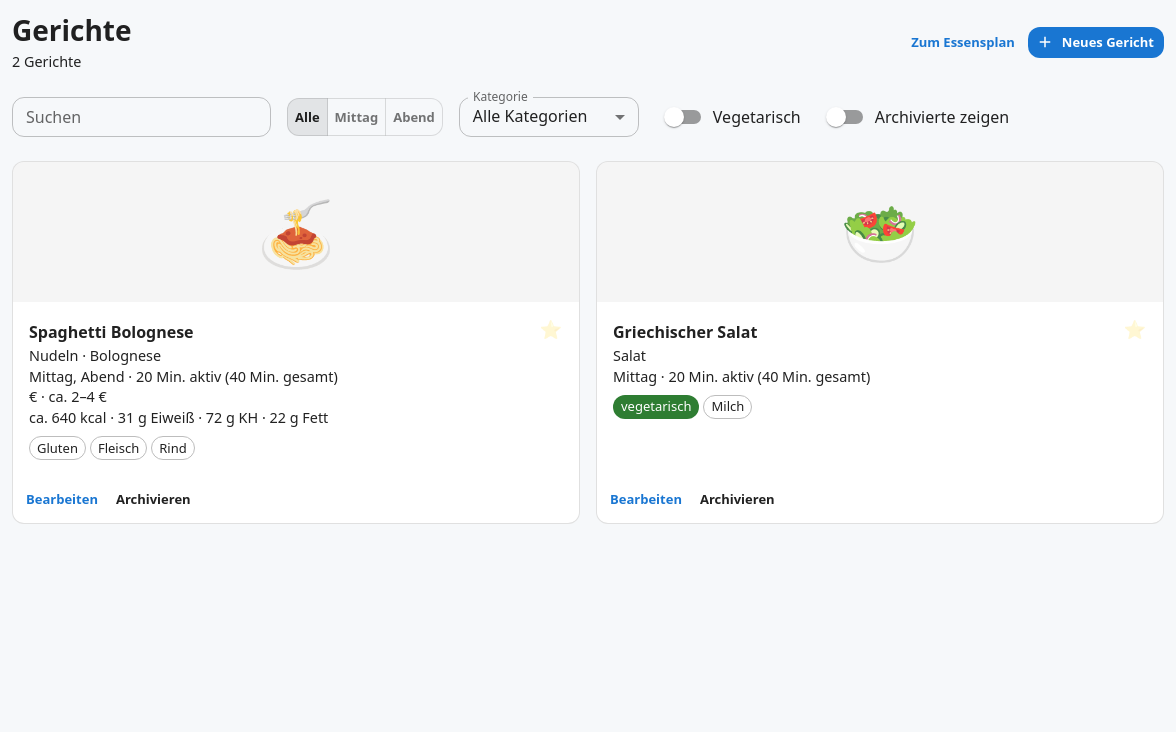
it: DishesPage (FOOD-010) › archives with undo and restores from the archive
Step 1. Click the button with aria-label "Spaghetti Bolognese archivieren" → click(153, 500), box [111,484,196,515]
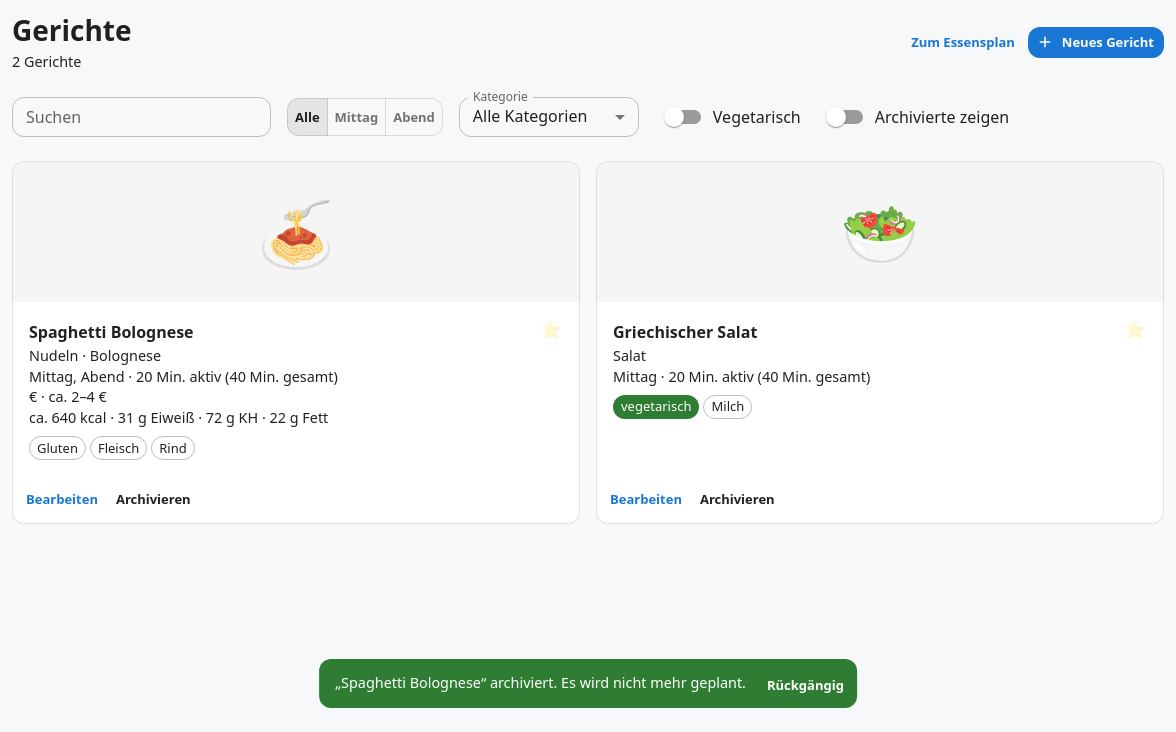
Result: the text "„Spaghetti Bolognese“ archiviert. Es wird nicht mehr geplant." is shown at [335,673,746,692]
Step 2. Click the button "Rückgängig" → click(805, 686), box [762,670,849,701]
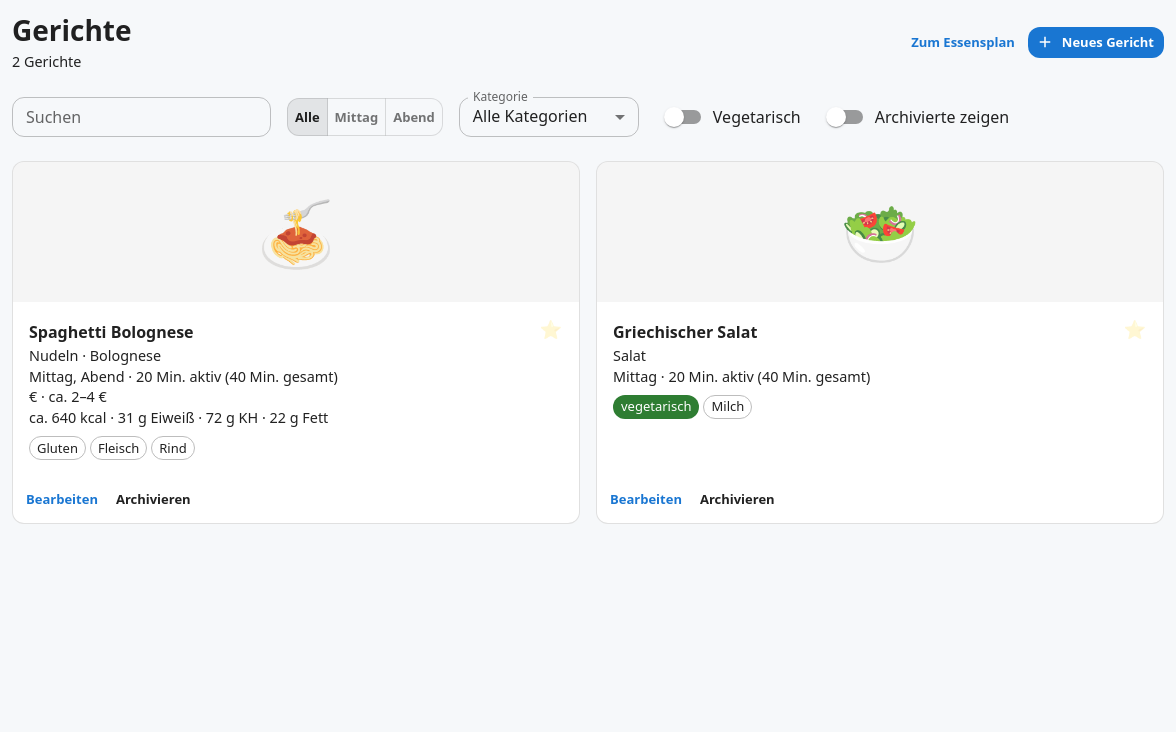
Step 3. Click the switch labelled "Archivierte zeigen" → click(917, 117), box [826,106,1009,128]
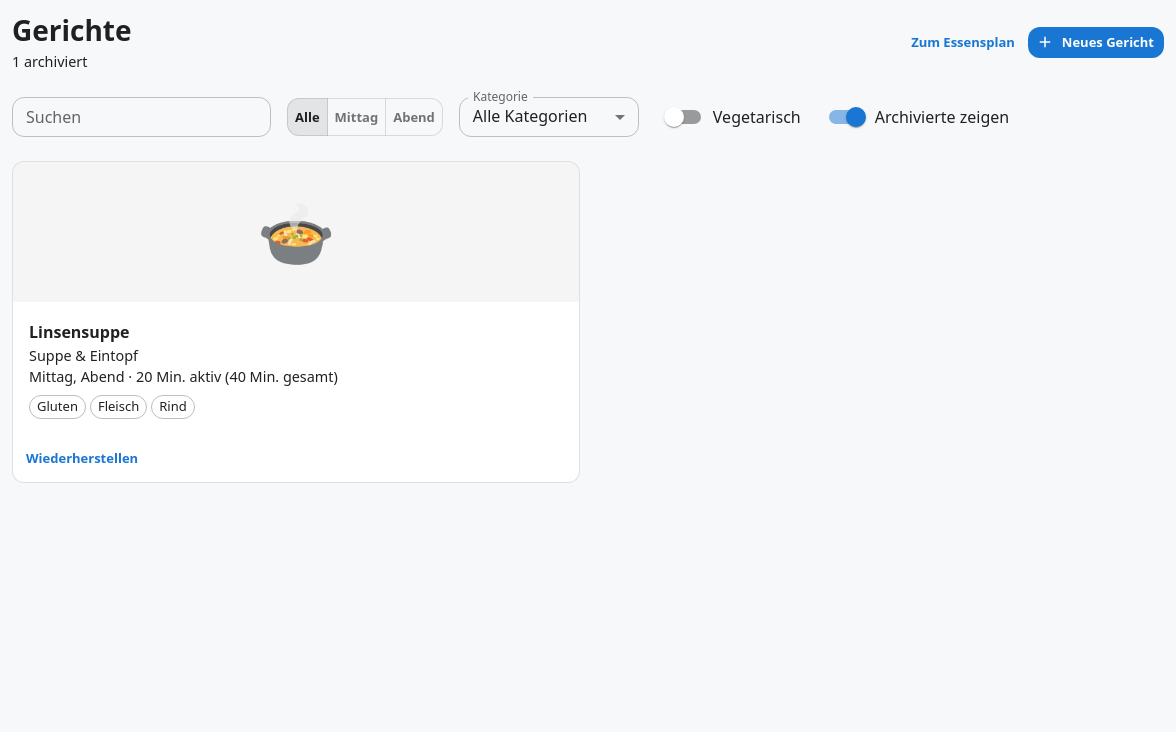
Result: the heading "Linsensuppe" is shown at [29,321,130,343]
Step 4. Click the button with aria-label "Linsensuppe wiederherstellen" → click(82, 459), box [21,443,143,474]
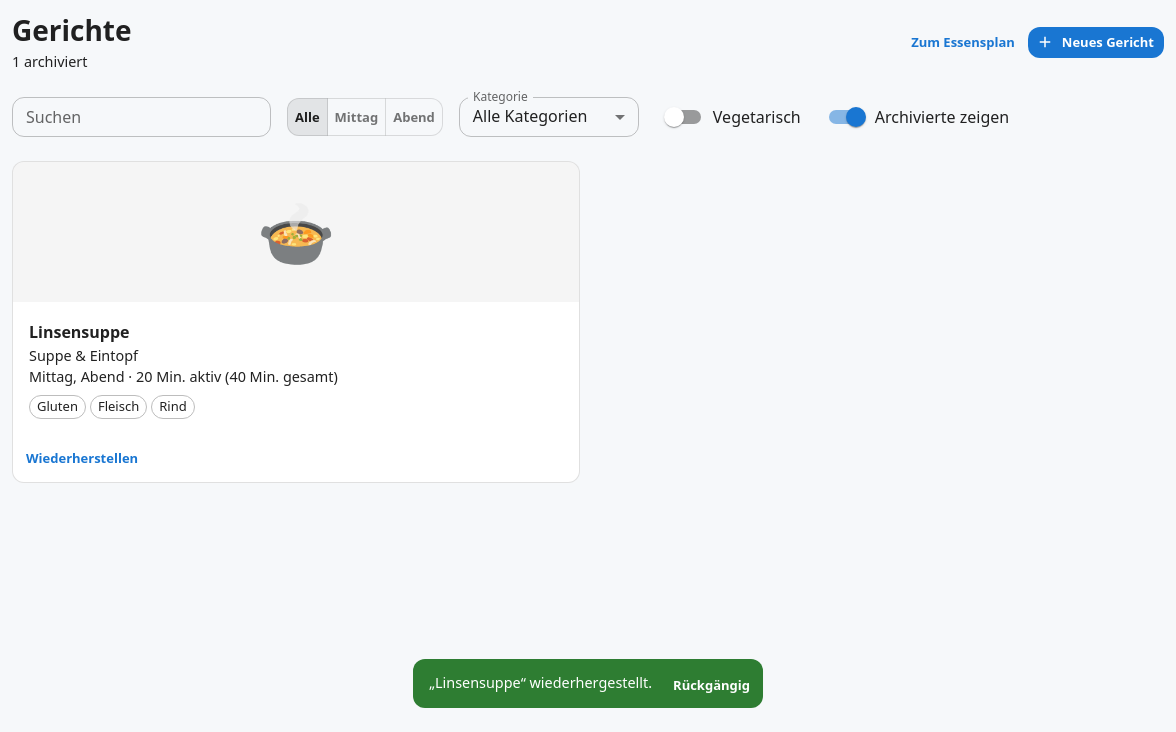
Result: the text "„Linsensuppe“ wiederhergestellt." is shown at [429,673,652,692]
